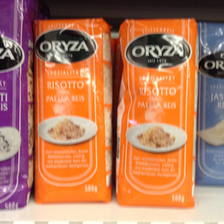rice: (115, 18, 200, 208), (31, 16, 112, 203), (1, 1, 32, 210)
